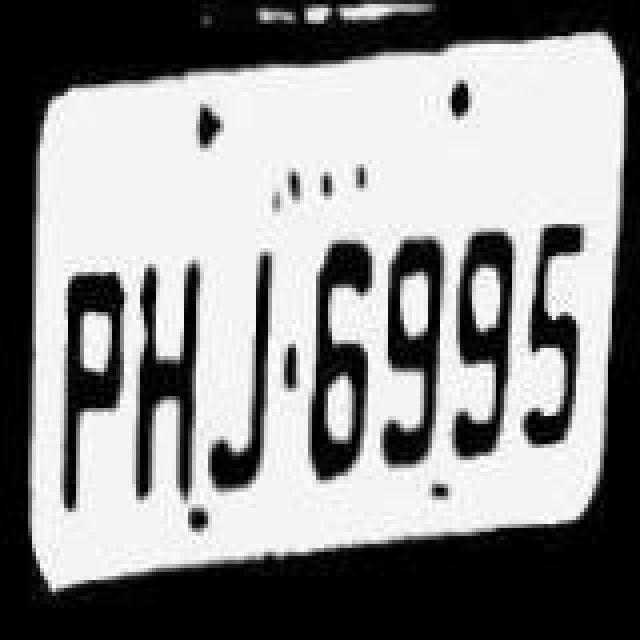5: (510, 198, 602, 458)
6: (298, 230, 374, 486)
9: (448, 190, 528, 458), (374, 204, 450, 468)
H: (122, 248, 210, 508)
J: (198, 242, 282, 502)
P: (52, 256, 136, 512)
